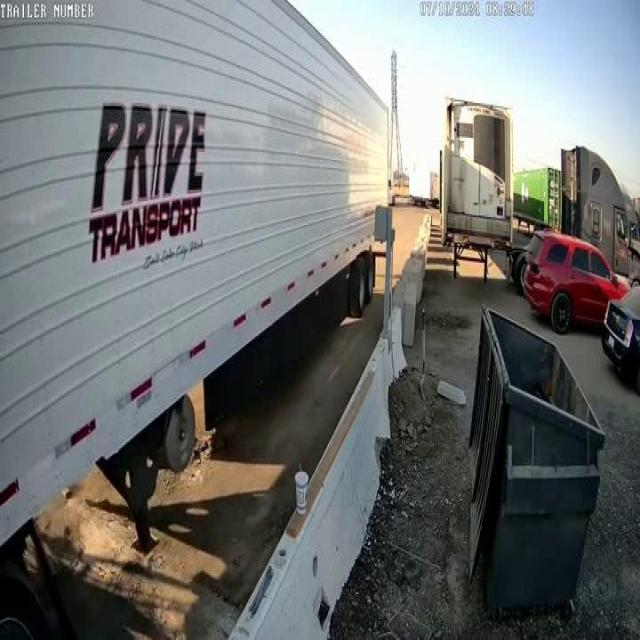TRUCK_OUT: (0, 0, 398, 568)
